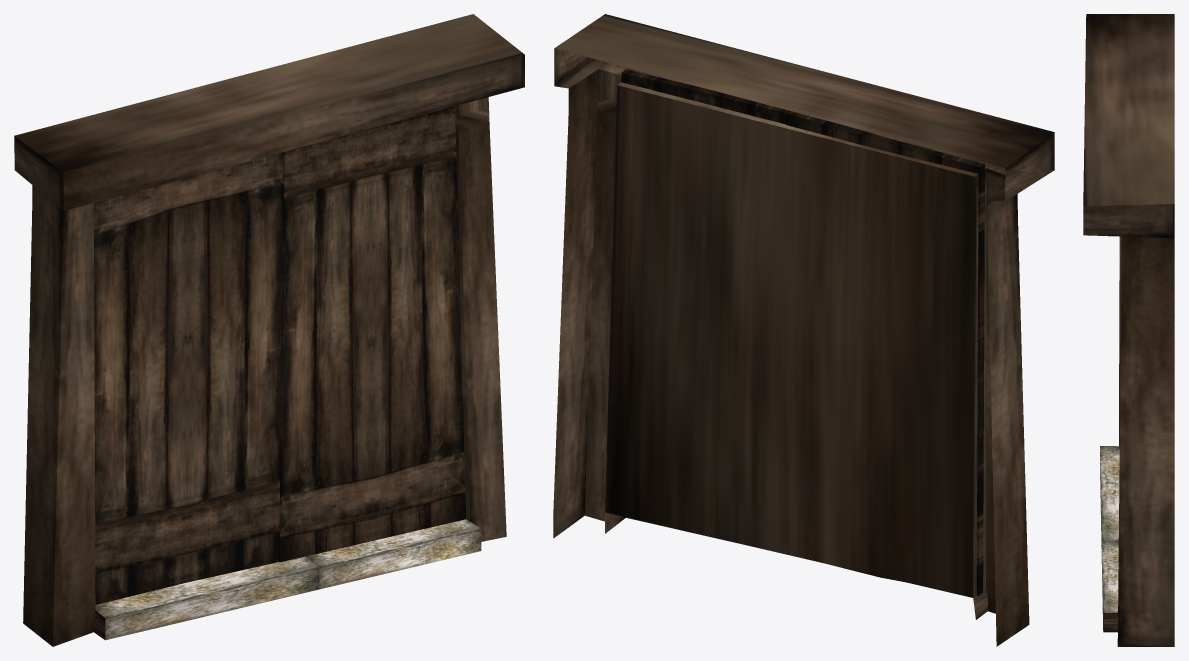
The model's file is fort_door.fbx.
The picture shows the model from 3 angles, left to right: view 1: azimuth 30°, elevation 25°; view 2: azimuth 150°, elevation 25°; view 3: azimuth 270°, elevation 25°; orthographic projection. The views are drawn at different scales.
Parts seen in each view (by area): view 1: fort_doors1_high, door_left, door_right; view 2: fort_doors1_high, door_left, door_right; view 3: fort_doors1_high.
Boxes of the visible parts, left/top/right/bottom form: fort_doors1_high: left=14, top=14, right=524, bottom=646; door_left: left=94, top=152, right=283, bottom=604; door_right: left=279, top=106, right=466, bottom=562; fort_doors1_high: left=553, top=14, right=1054, bottom=646; door_left: left=786, top=111, right=984, bottom=595; door_right: left=621, top=69, right=789, bottom=124; fort_doors1_high: left=1083, top=14, right=1174, bottom=646.
Bounding box in the file's own units: 1888 × 1956 × 366.
Materials: 1 (1 with a texture image).
